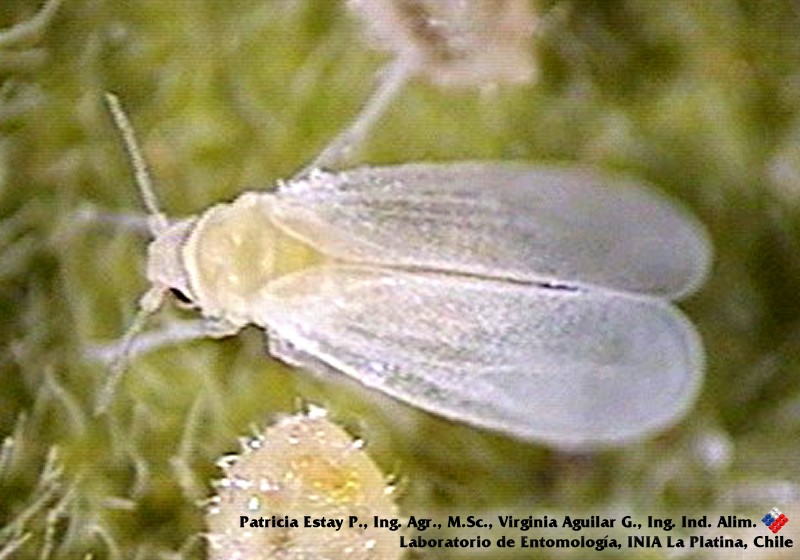whitefly: (93, 85, 712, 445)
